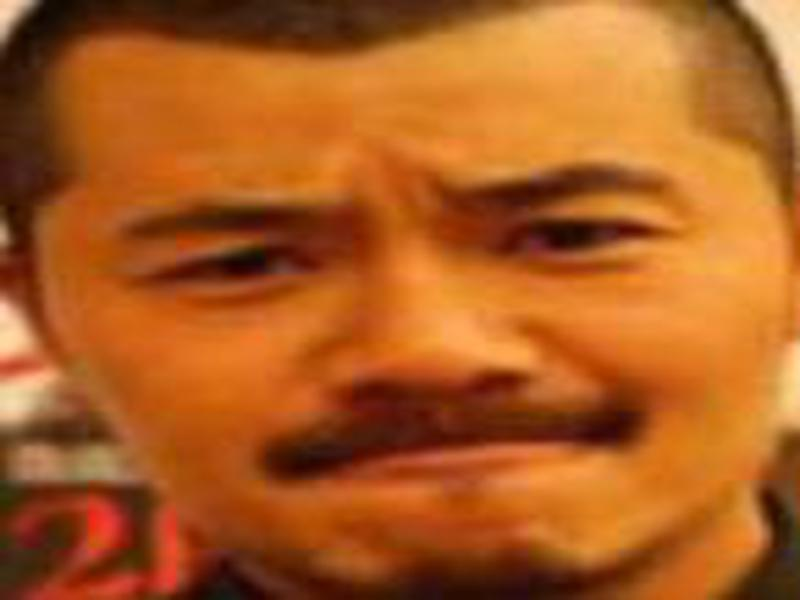without_mask: (31, 55, 766, 599)
